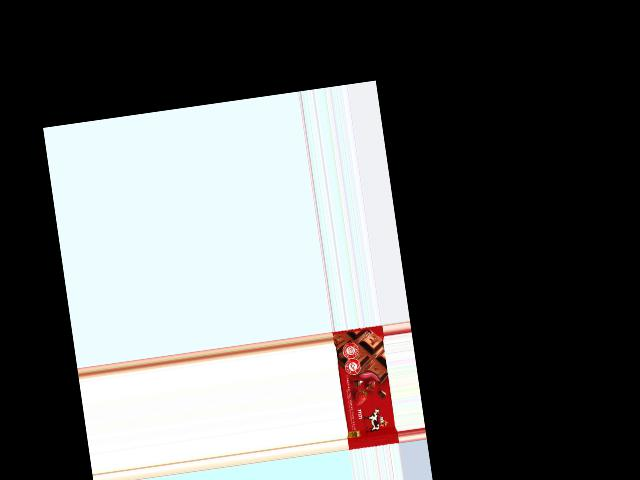chocolate: (332, 325, 398, 450)
